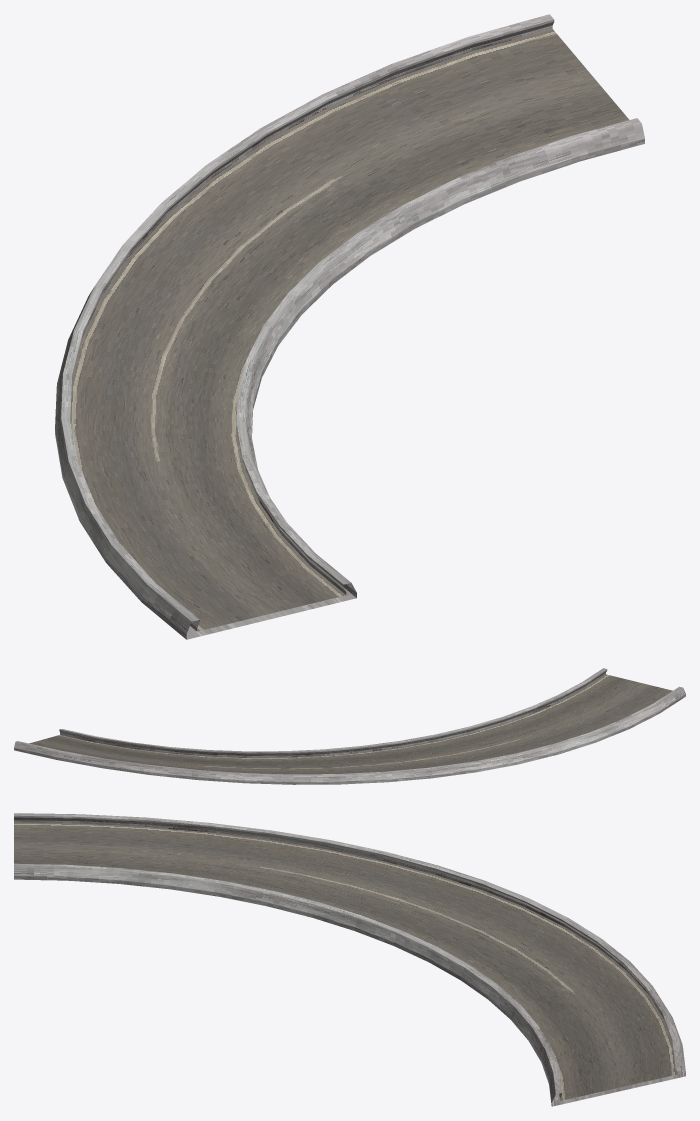
Rendered from road-Turn-Flat-HalfBankedRight-Even-Right-Size5.glb.
The picture shows the model from 3 angles, top to bottom: view 1: azimuth 30°, elevation 25°; view 2: azimuth 150°, elevation 25°; view 3: azimuth 270°, elevation 25°; orthographic projection. The views are drawn at different scales.
Visible parts, largest first — view 1: road-Turn-Flat-HalfBankedRight-Even-Right-Size5; view 2: road-Turn-Flat-HalfBankedRight-Even-Right-Size5; view 3: road-Turn-Flat-HalfBankedRight-Even-Right-Size5.
Part boxes in pixels (x1,y1,x2,y2): road-Turn-Flat-HalfBankedRight-Even-Right-Size5: (55, 14, 644, 639); road-Turn-Flat-HalfBankedRight-Even-Right-Size5: (14, 668, 685, 784); road-Turn-Flat-HalfBankedRight-Even-Right-Size5: (14, 813, 685, 1106).
Bounding box in the file's own units: 5 × 0.3359 × 5.
2 materials, 2 textured.
